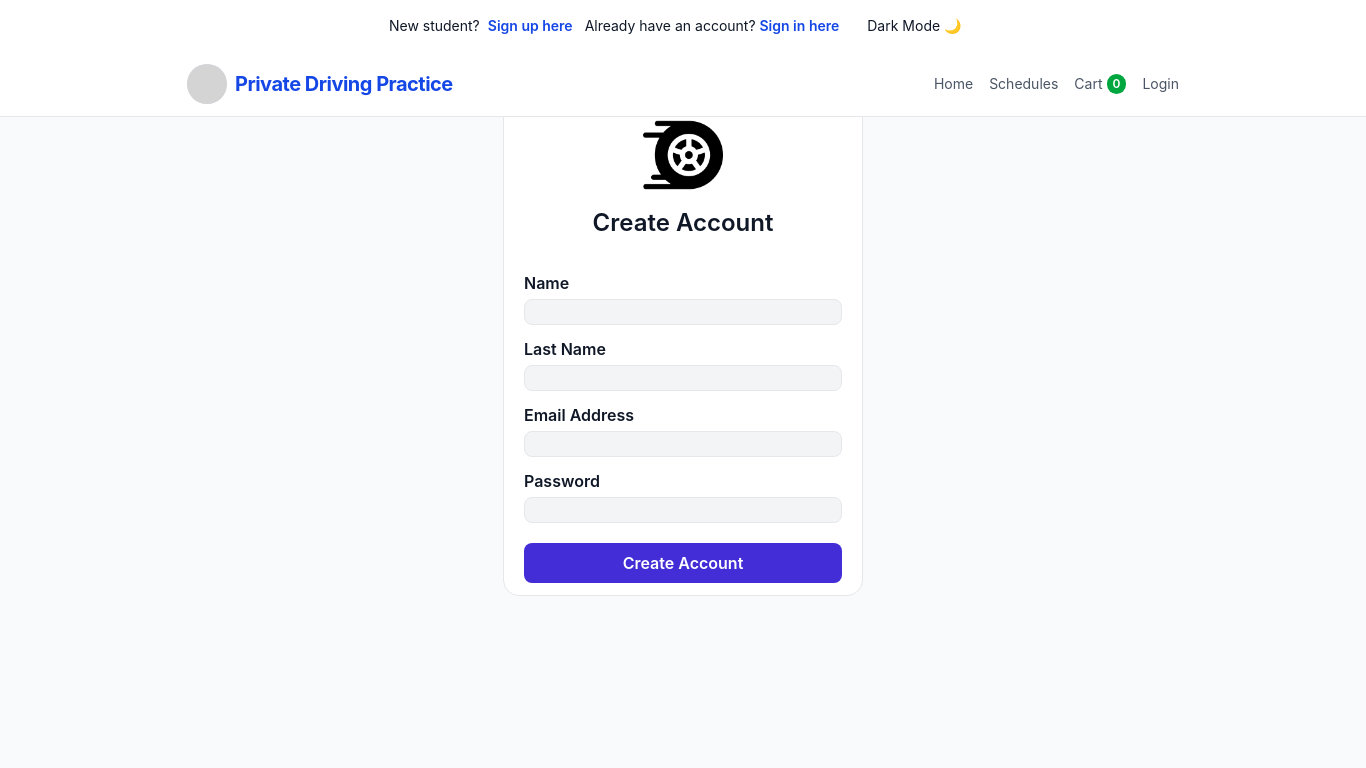
Test: Driving School Examination App › Sign in Error Validation
The width and height of the screenshot is (1366, 768).
(page scrolled)
Click the button "Create Account" at coordinates (683, 563), box left=524, top=543, right=842, bottom=583
(page scrolled)
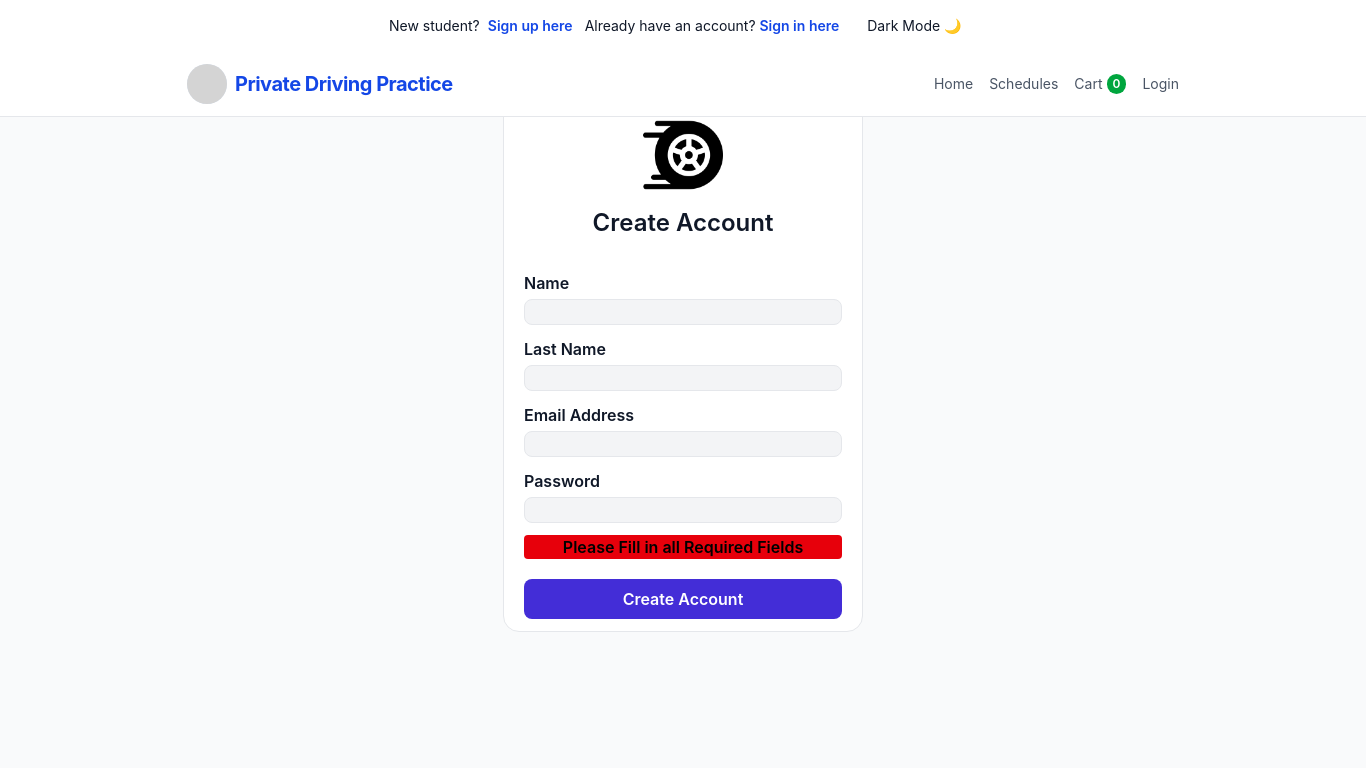
expect the text "Please Fill in all Required Fields" is shown: met, box left=524, top=535, right=842, bottom=559
Type "Max" into the 1st field named "name" at coordinates (683, 312), box left=524, top=299, right=842, bottom=325
Type "Hamburger" into the field named "lastname" below "Last Name" at coordinates (683, 378), box left=524, top=365, right=842, bottom=391
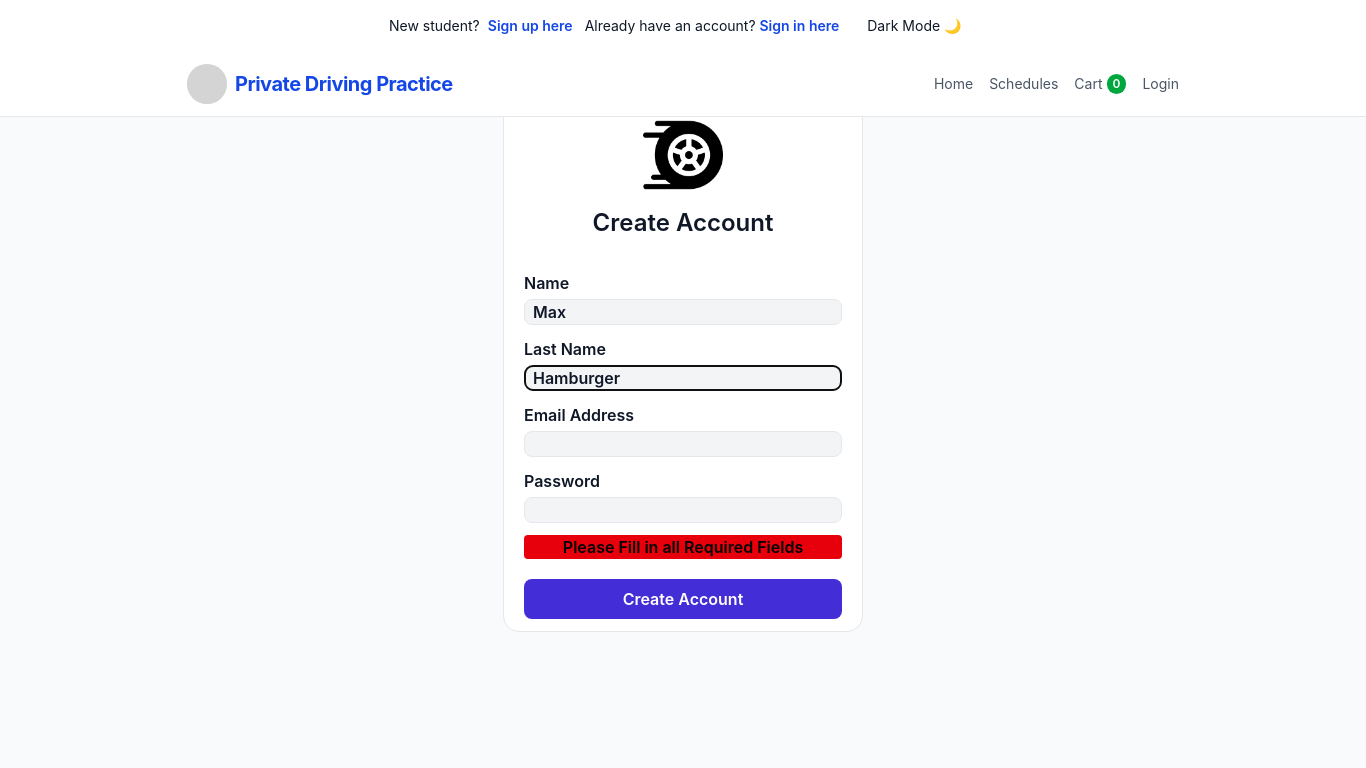
Type "123" into the field named "password" below "Password" at coordinates (683, 510), box left=524, top=497, right=842, bottom=523
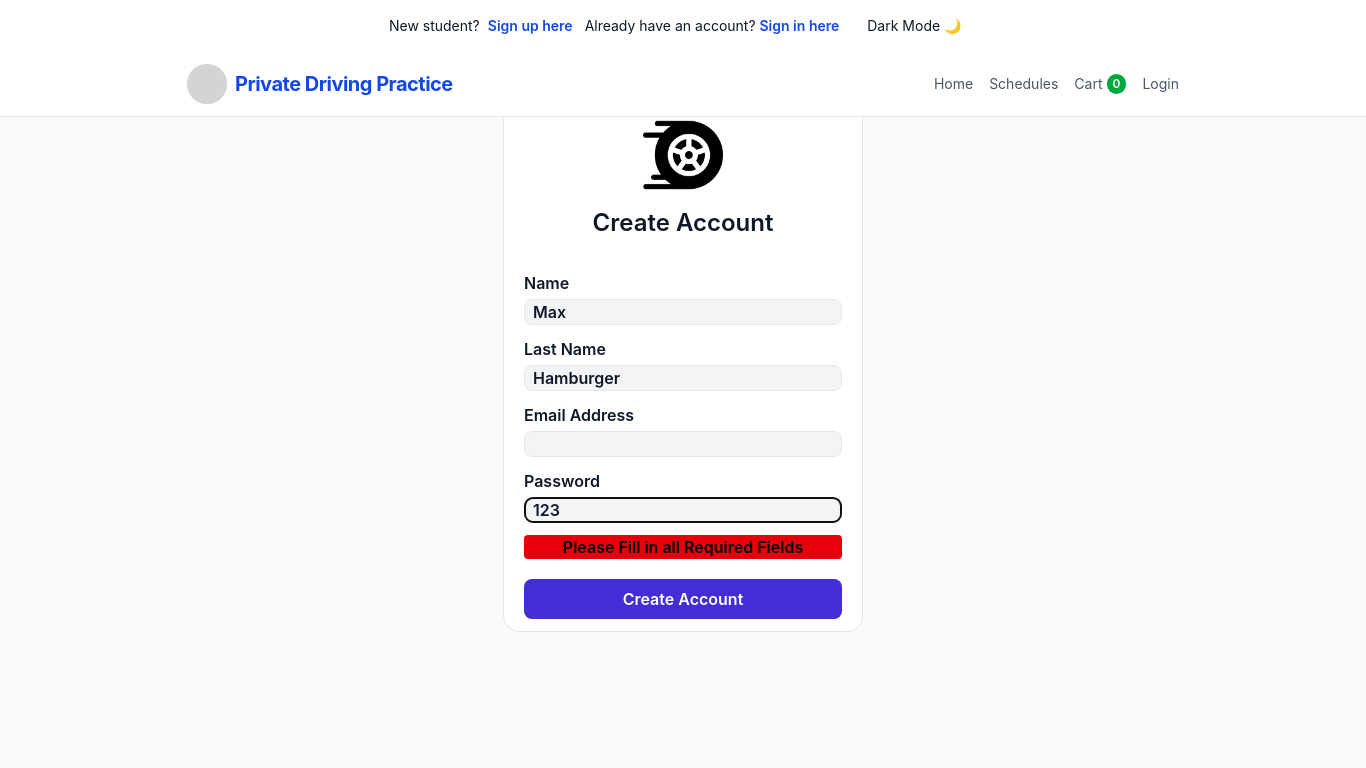
Click the button "Create Account" at coordinates (683, 599), box left=524, top=579, right=842, bottom=619
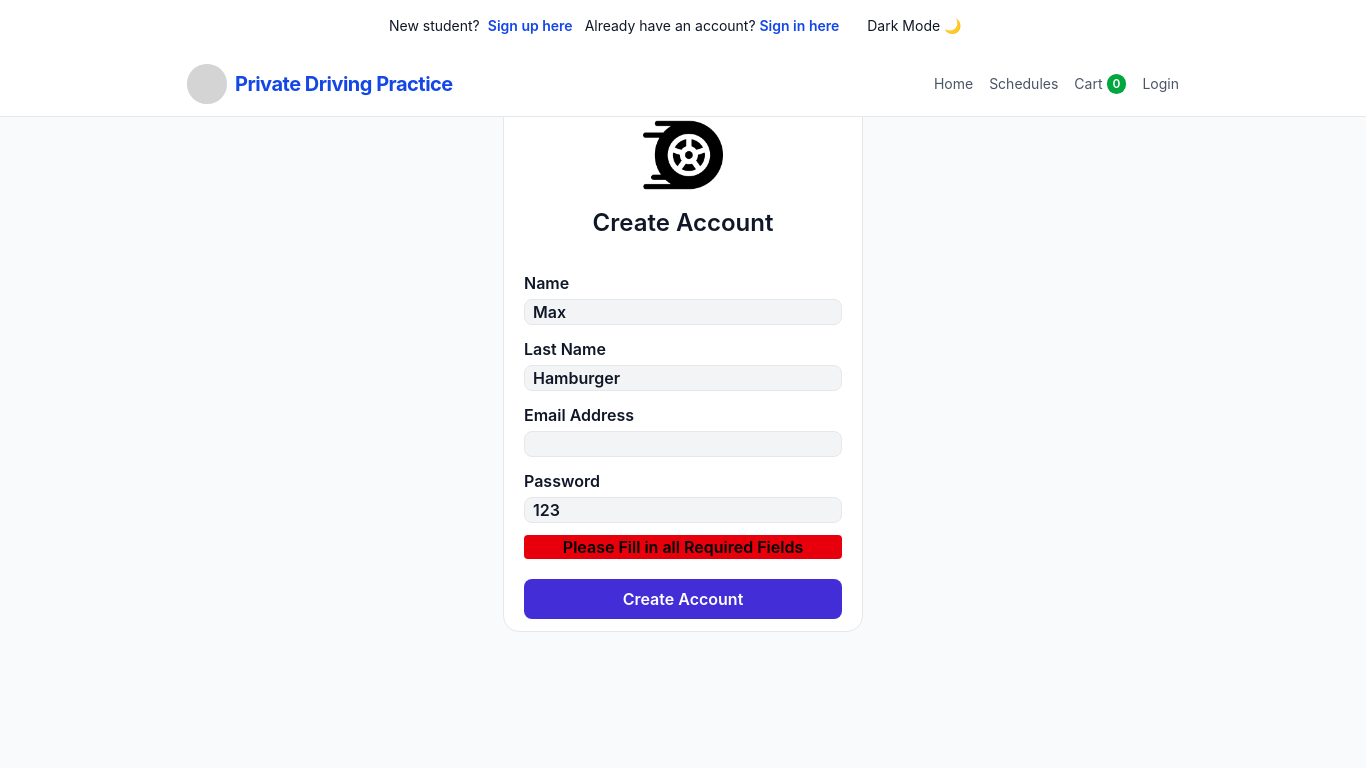
expect the text "Please Fill in all Required Fields" is shown: met, box left=524, top=535, right=842, bottom=559
Type "invalid-email" into the field named "email" below "Email Address" at coordinates (683, 444), box left=524, top=431, right=842, bottom=457
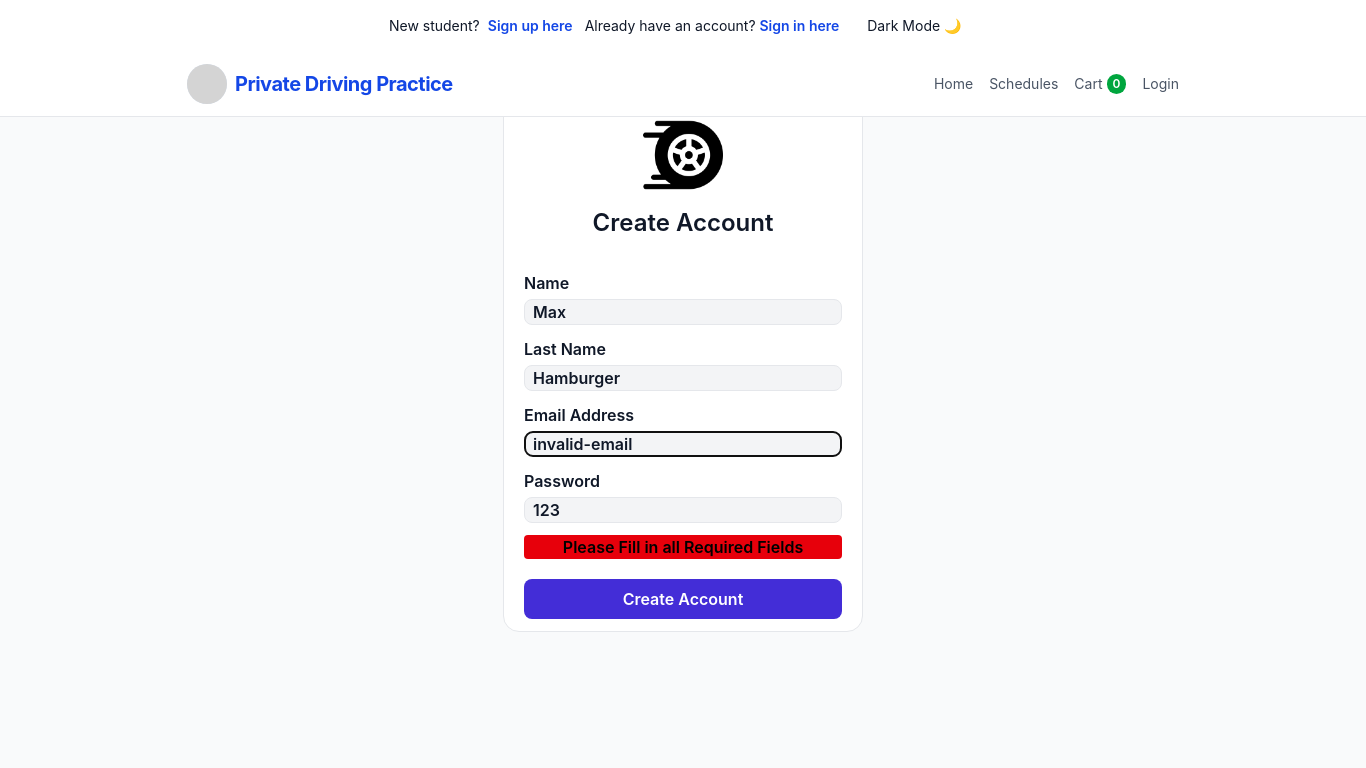
Click the button "Create Account" at coordinates (683, 599), box left=524, top=579, right=842, bottom=619
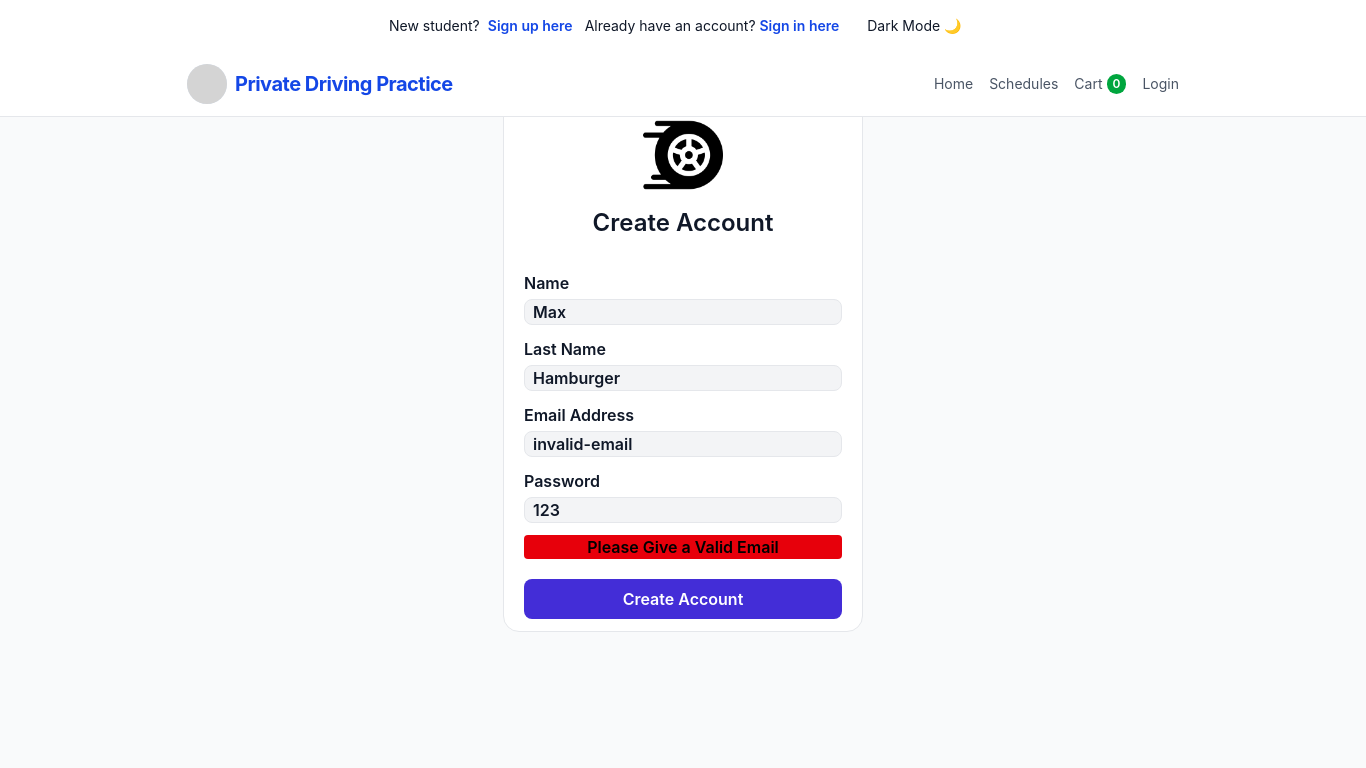
expect the text "Please Give a Valid Email" is shown: met, box left=524, top=535, right=842, bottom=559
